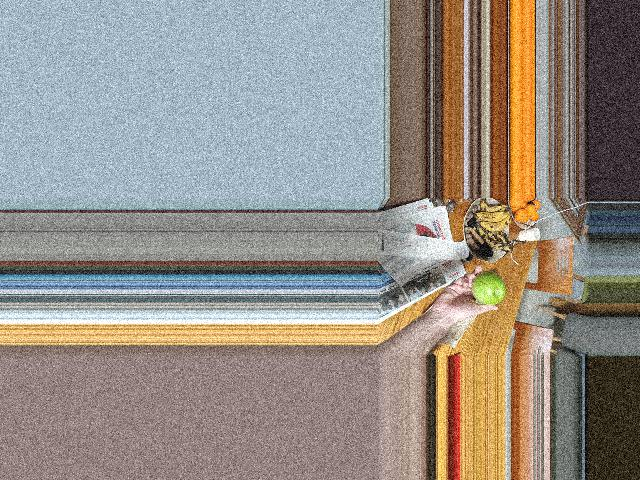apple: (469, 270, 508, 309)
